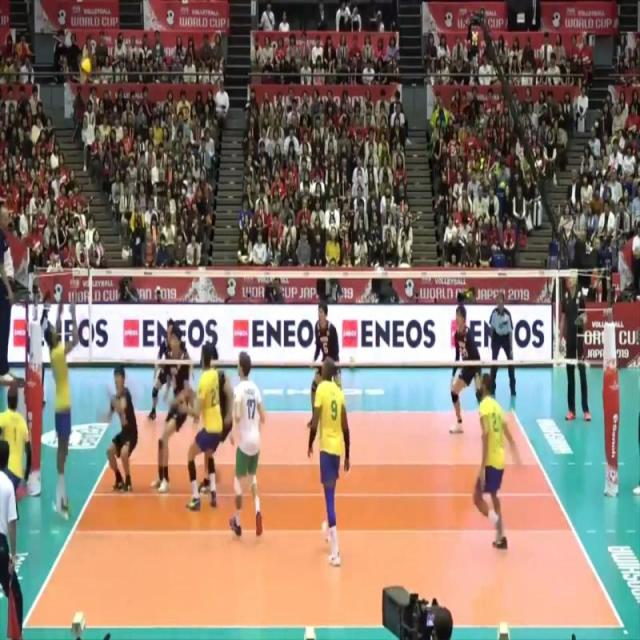volleyball: (77, 51, 95, 81)
